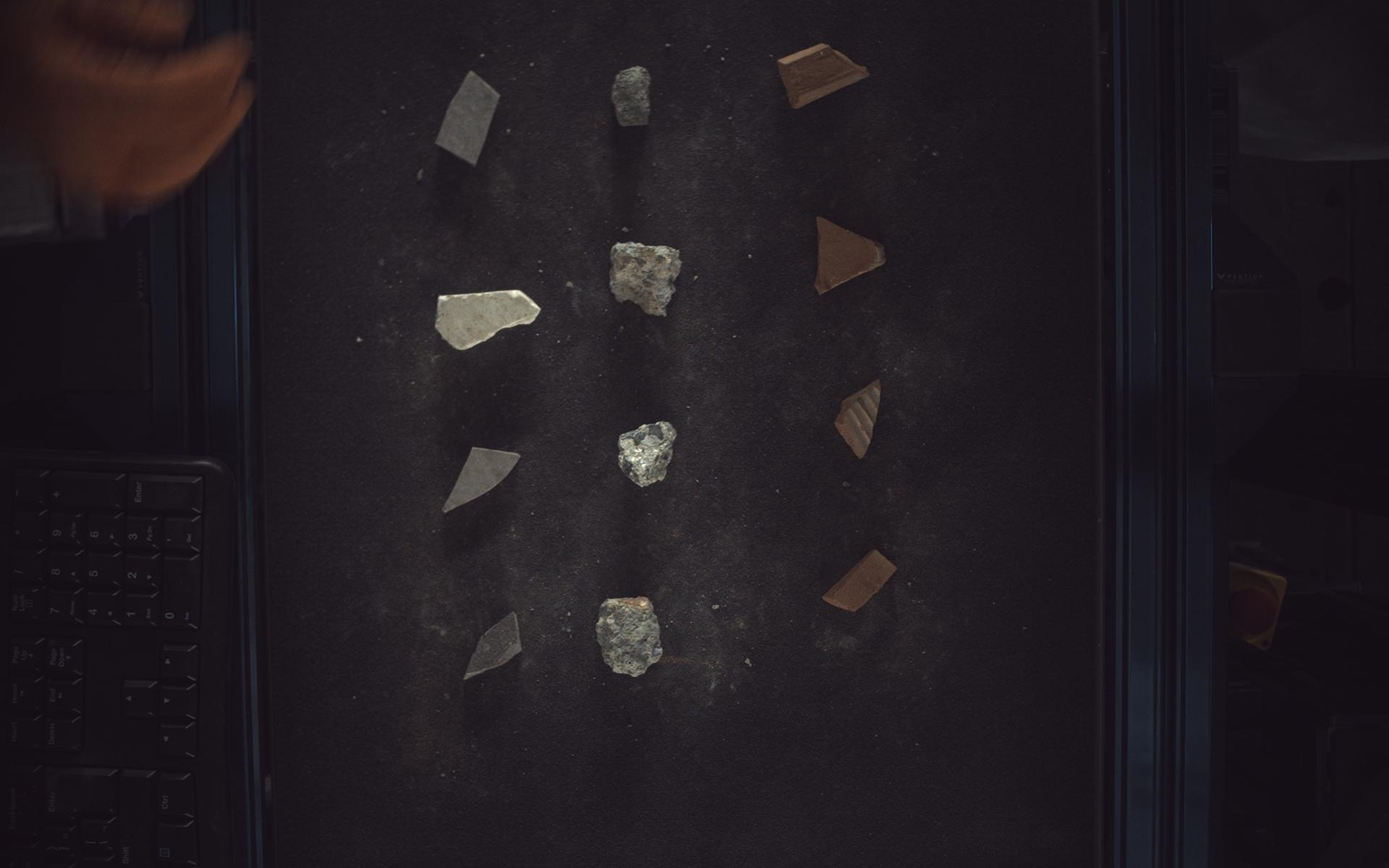brick: (778, 42, 870, 108), (816, 216, 888, 294), (825, 550, 899, 613), (836, 379, 883, 459)
concrete: (597, 597, 663, 678), (611, 242, 682, 316), (620, 422, 677, 488), (612, 65, 651, 126)
tile: (436, 289, 540, 350), (436, 69, 500, 165), (443, 448, 519, 513), (464, 613, 521, 682)
